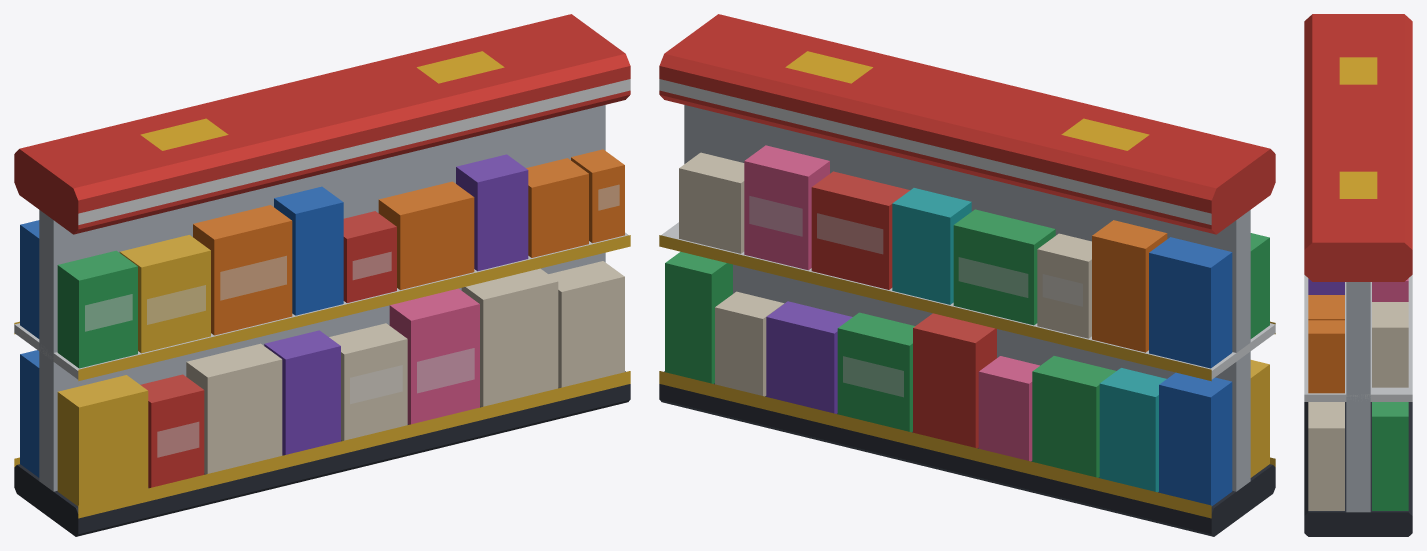
The model's file is market-wall1.glb.
The picture shows the model from 3 angles, left to right: view 1: azimuth 30°, elevation 25°; view 2: azimuth 150°, elevation 25°; view 3: azimuth 270°, elevation 25°; orthographic projection. The views are drawn at different scales.
Parts seen in each view (by area): view 1: market-wall1; view 2: market-wall1; view 3: market-wall1.
Boxes of the visible parts, x1,y1,x2,y2 form: market-wall1: (14,14,630,536); market-wall1: (659,14,1275,536); market-wall1: (1304,14,1412,536).
Bounding box in the file's own units: 2 × 1.2 × 0.401.
